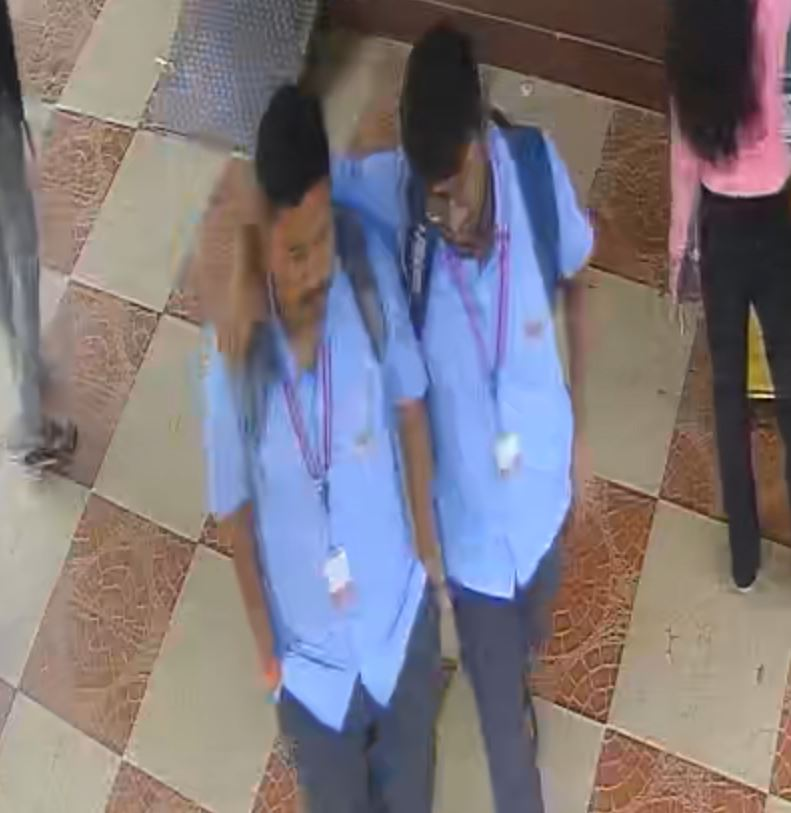intruder: (359, 35, 614, 813), (203, 75, 449, 813)
